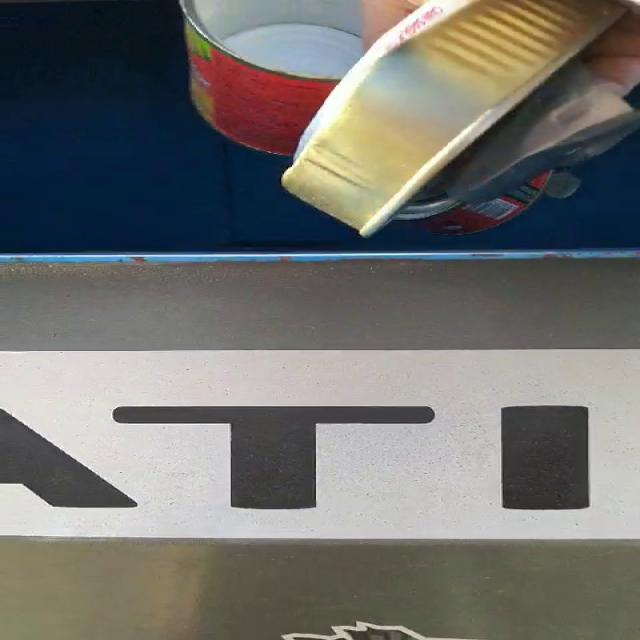bin: (1, 0, 640, 640)
metal: (180, 0, 640, 236)
